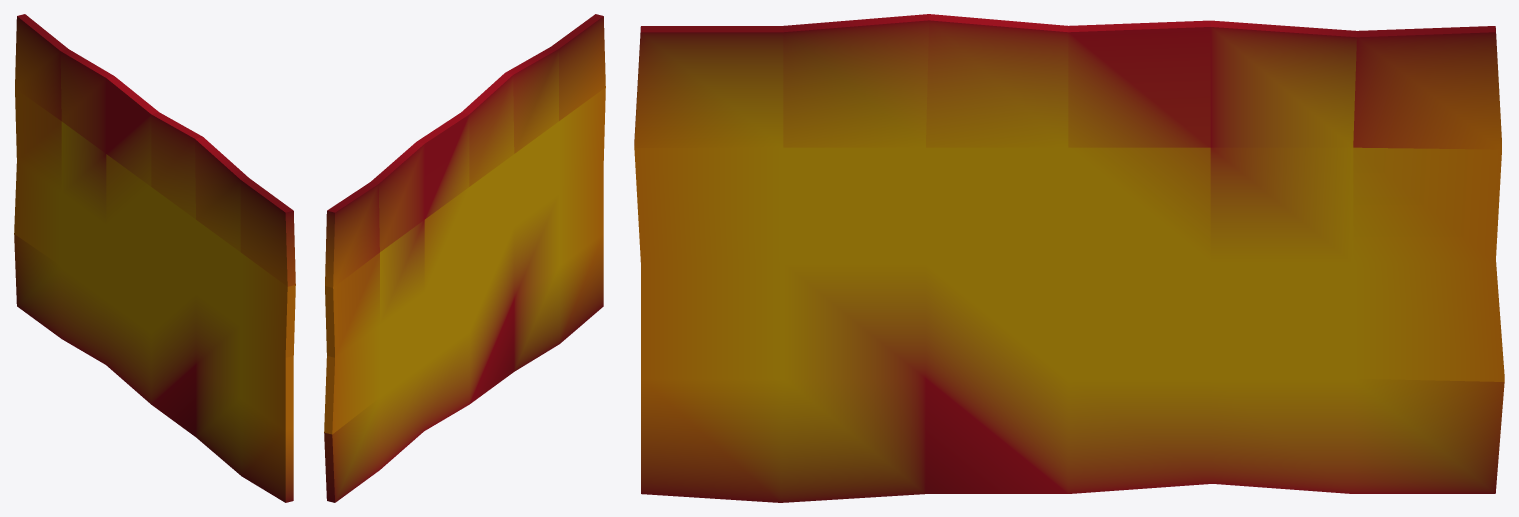
Rendered from SM_Flag_Spanish_01.glb.
The picture shows the model from 3 angles, left to right: view 1: azimuth 30°, elevation 25°; view 2: azimuth 150°, elevation 25°; view 3: azimuth 270°, elevation 25°; orthographic projection. The views are drawn at different scales.
Parts seen in each view (by area): view 1: SM_Flag_Spanish_01; view 2: SM_Flag_Spanish_01; view 3: SM_Flag_Spanish_01.
Boxes of the visible parts, <box> form: SM_Flag_Spanish_01: <box>14,14,295,502</box>; SM_Flag_Spanish_01: <box>324,14,605,502</box>; SM_Flag_Spanish_01: <box>634,14,1504,502</box>.
Size of the model in its own units: 0.000403 by 0.0142 by 0.0232.
